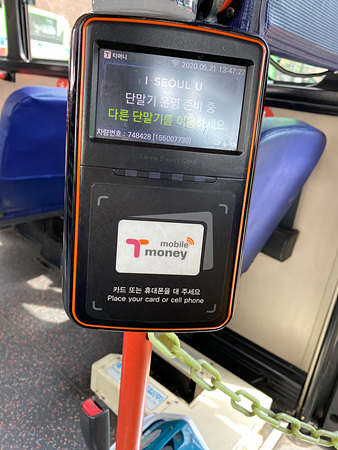terminal: (73, 12, 256, 329)
